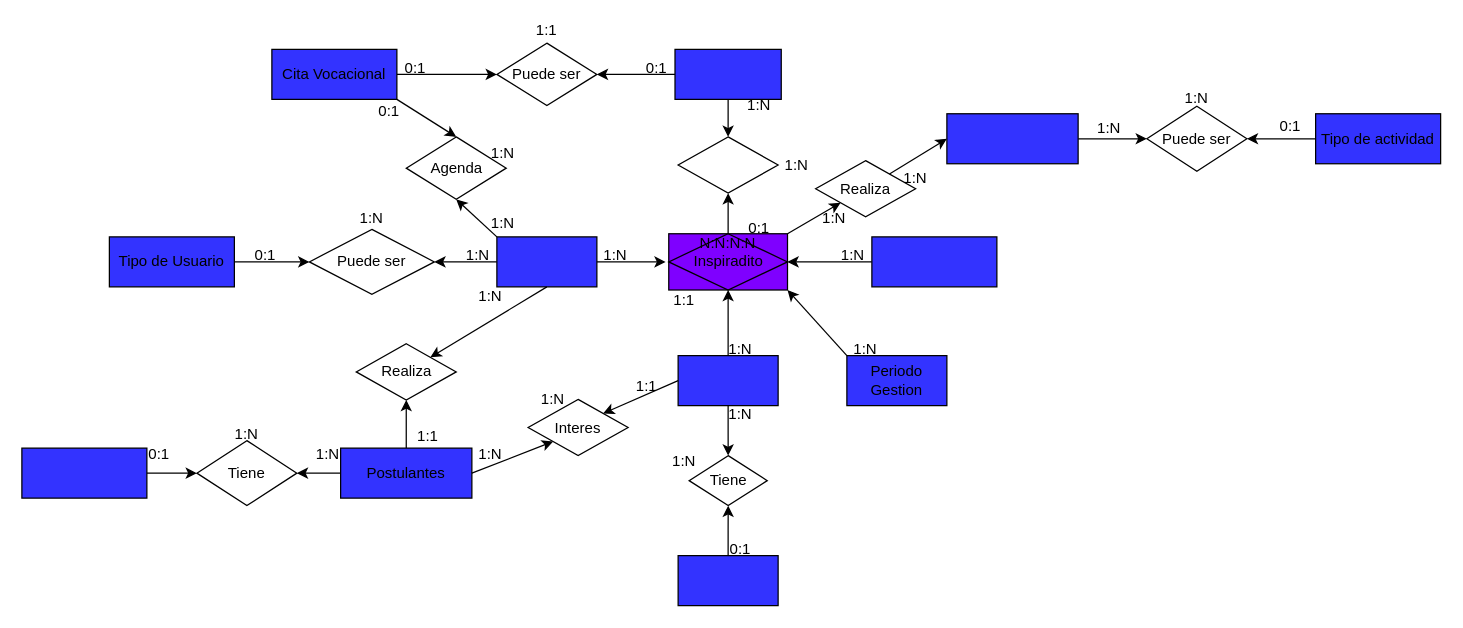
Image size: 1463x628. Some labels were removed from this diagram. The centre of each missing label's shape, as x and y in pixels:
"Areas" belongs at pixel 727 380.
"Convocatoria" belongs at pixel 84 472.
"Disponibilidad" belongs at pixel 727 73.
"Programas" belongs at pixel 727 580.
"Publica" belongs at pixel 727 164.
"Registro Actividad" belongs at pixel 1012 138.
"Rol Organizacional" belongs at pixel 934 261.
"Usuario" belongs at pixel 546 261.
